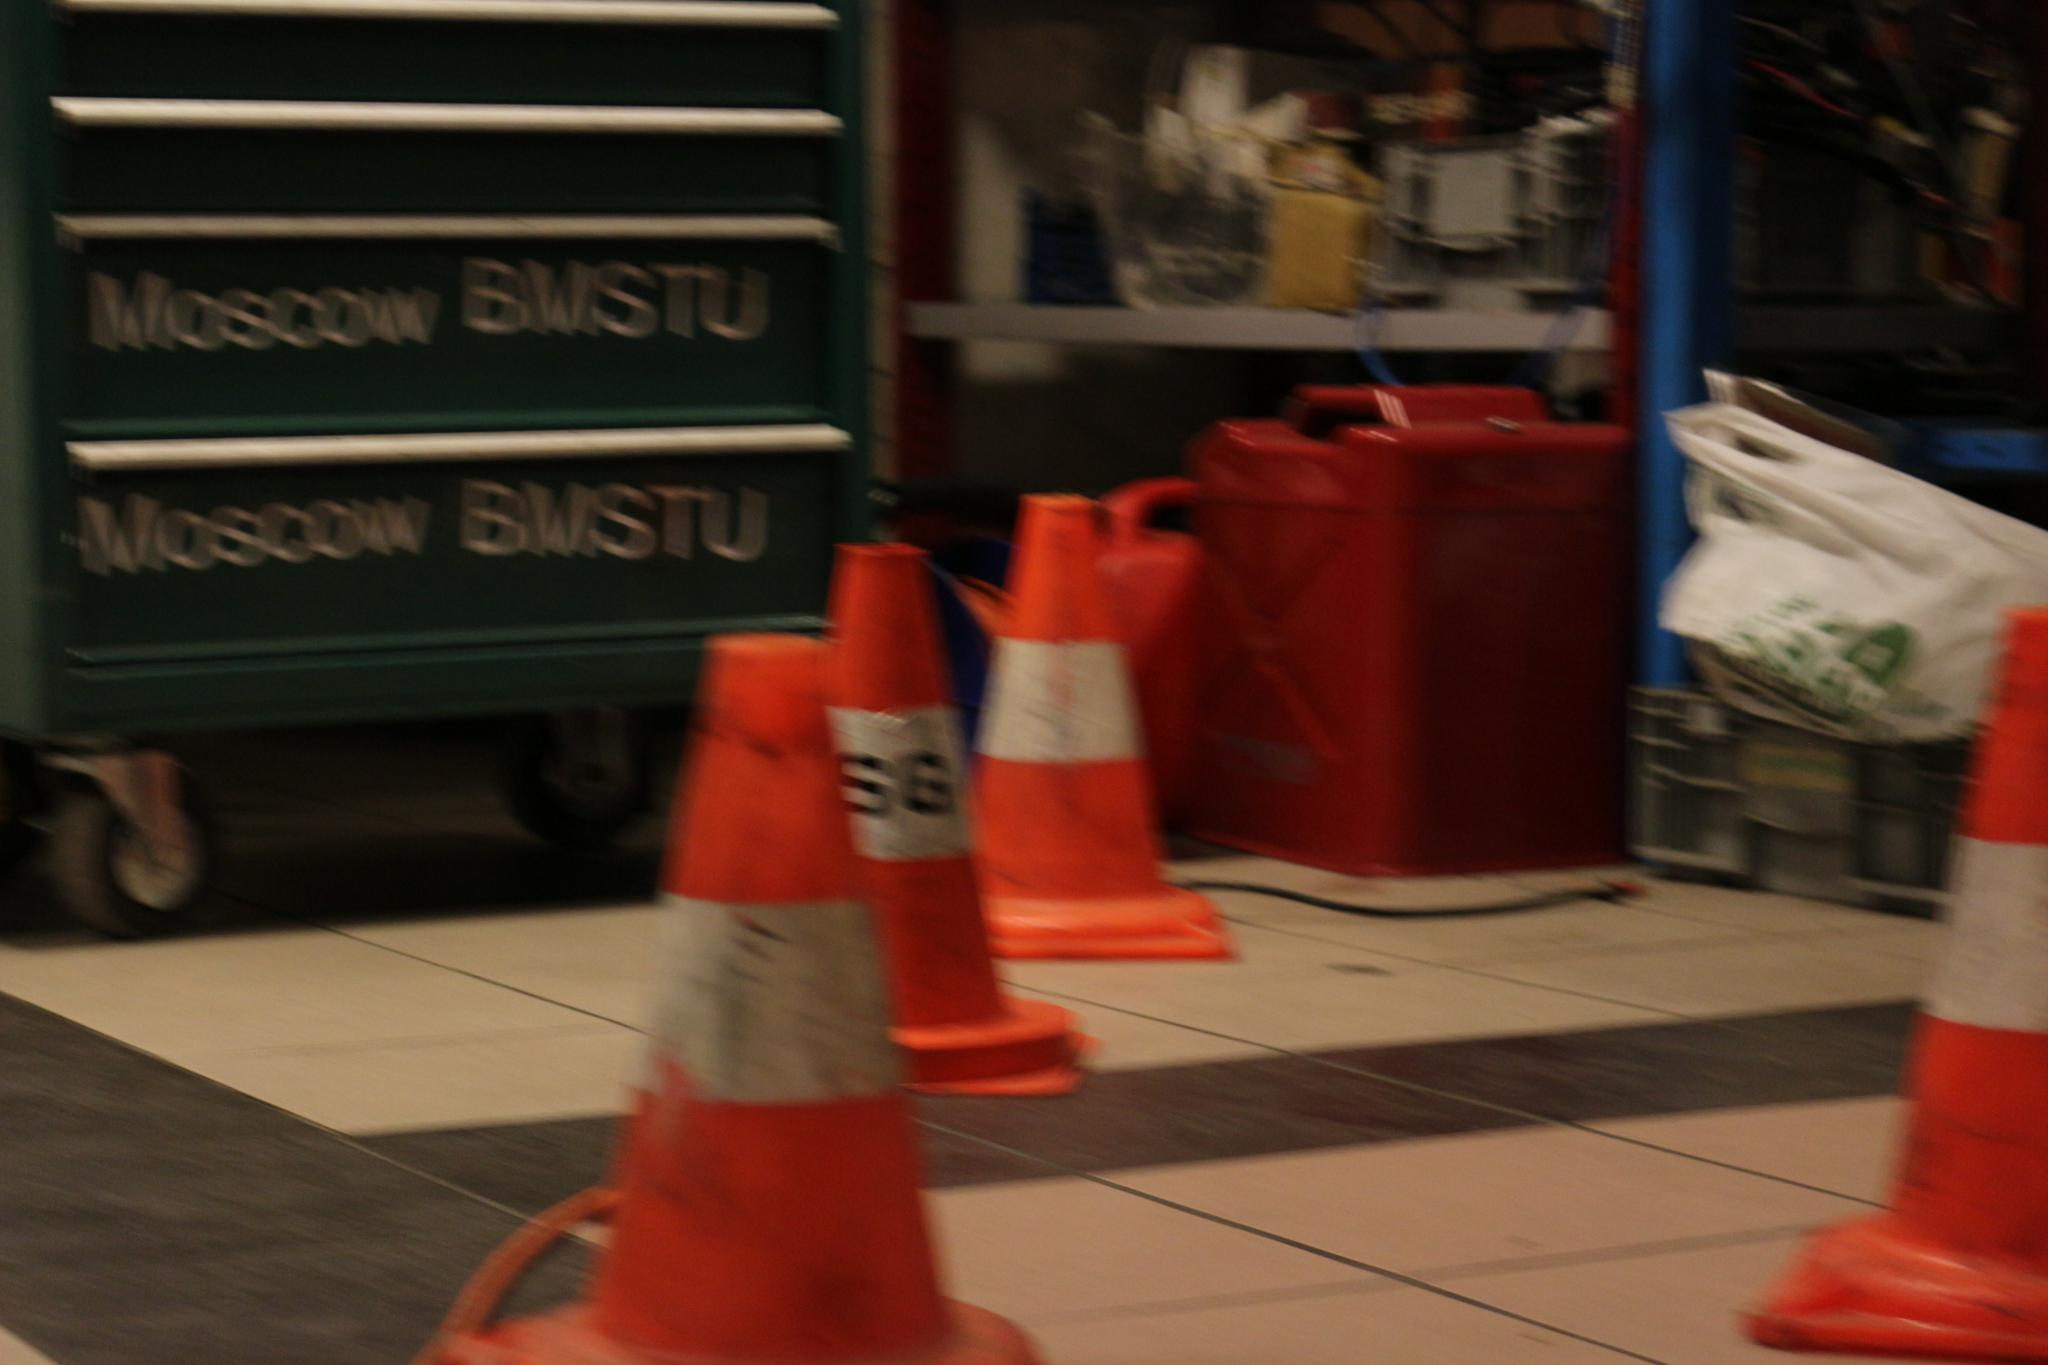Orange_Cone: (552, 624, 1034, 1361), (1730, 535, 2046, 1360), (736, 534, 1094, 1099), (946, 482, 1238, 967)
